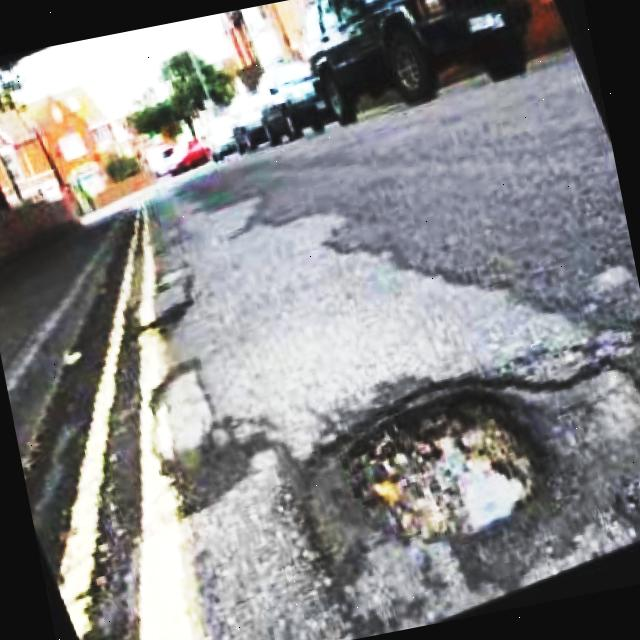pothole: (273, 336, 640, 633)
